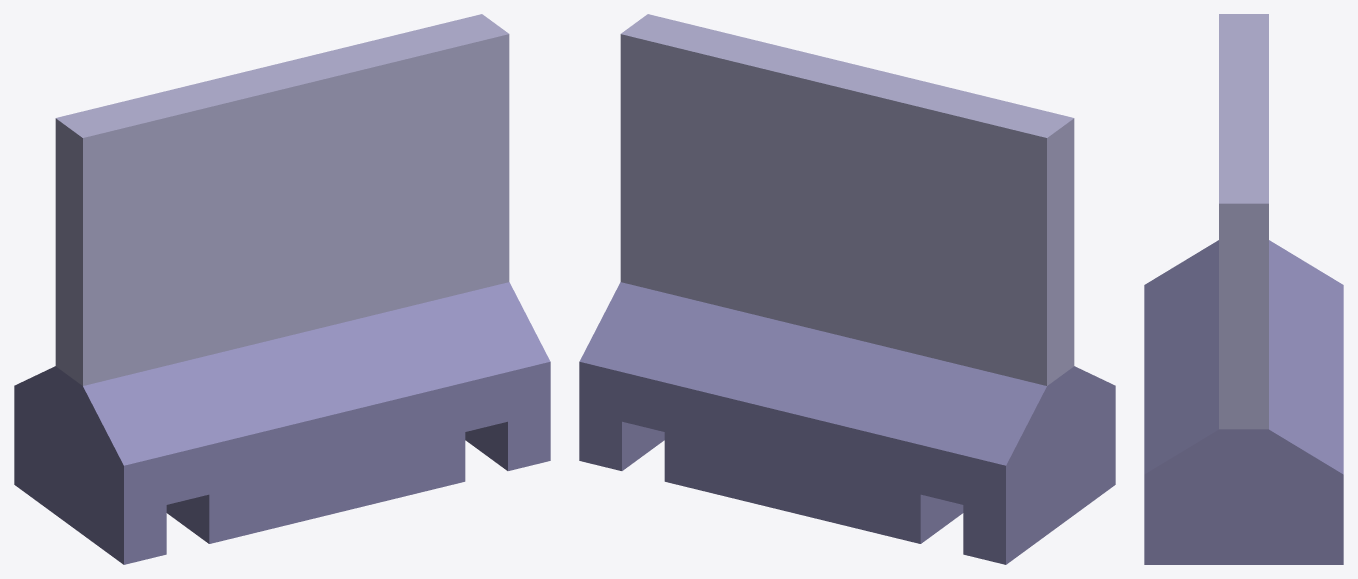
The model's file is roadBlockTall.fbx.
3 renders of one model, left to right at view 1: azimuth 30°, elevation 25°; view 2: azimuth 150°, elevation 25°; view 3: azimuth 270°, elevation 25°, orthographic. The views are drawn at different scales.
Visible parts, largest first — view 1: detail_roadBlockSmall; view 2: detail_roadBlockSmall; view 3: detail_roadBlockSmall.
Part boxes in pixels (x1,y1,x2,y2): detail_roadBlockSmall: (14, 14, 550, 564); detail_roadBlockSmall: (579, 14, 1115, 564); detail_roadBlockSmall: (1144, 14, 1343, 564).
Bounding box in the file's own units: 9 × 8 × 4.
